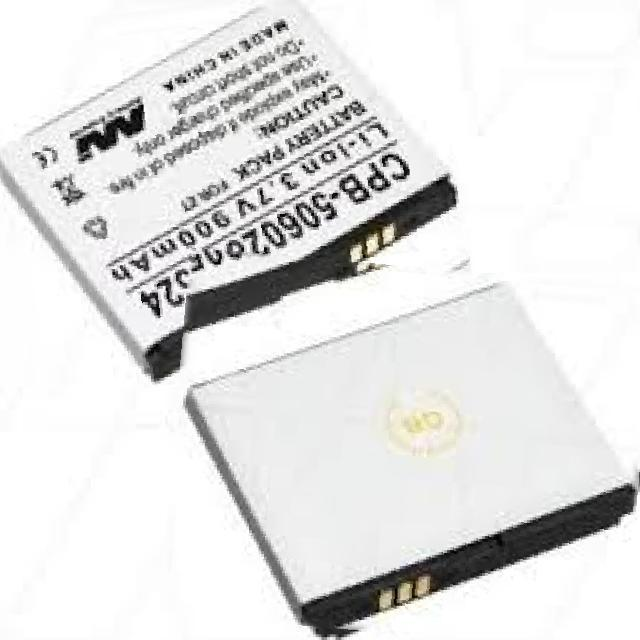Battery: (0, 0, 463, 384), (174, 265, 639, 639)
